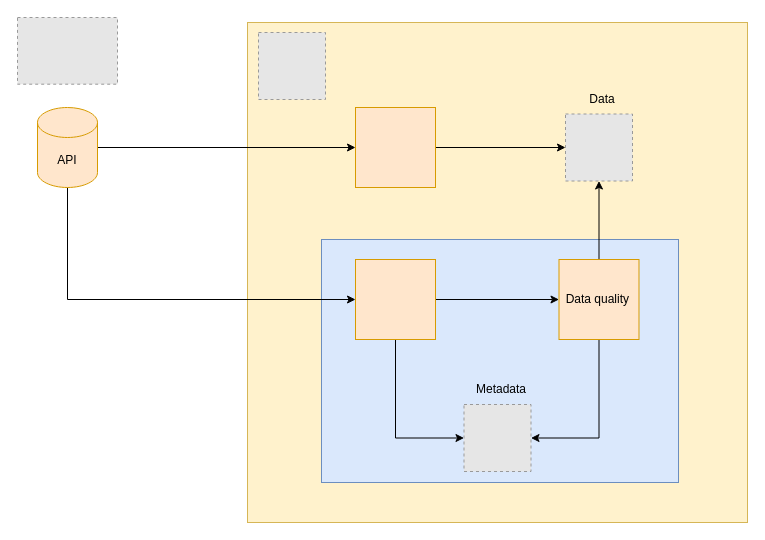
This 765x540 diagram has some shape labels left out. Grey dashed boxes stand in for pictures. The shapes that lost their labels are listed below. From the top down, each one's centre as x and y in pixels, then its label:
At point 395,147: "Backfile".
At point 395,299: "Data Refresh".
